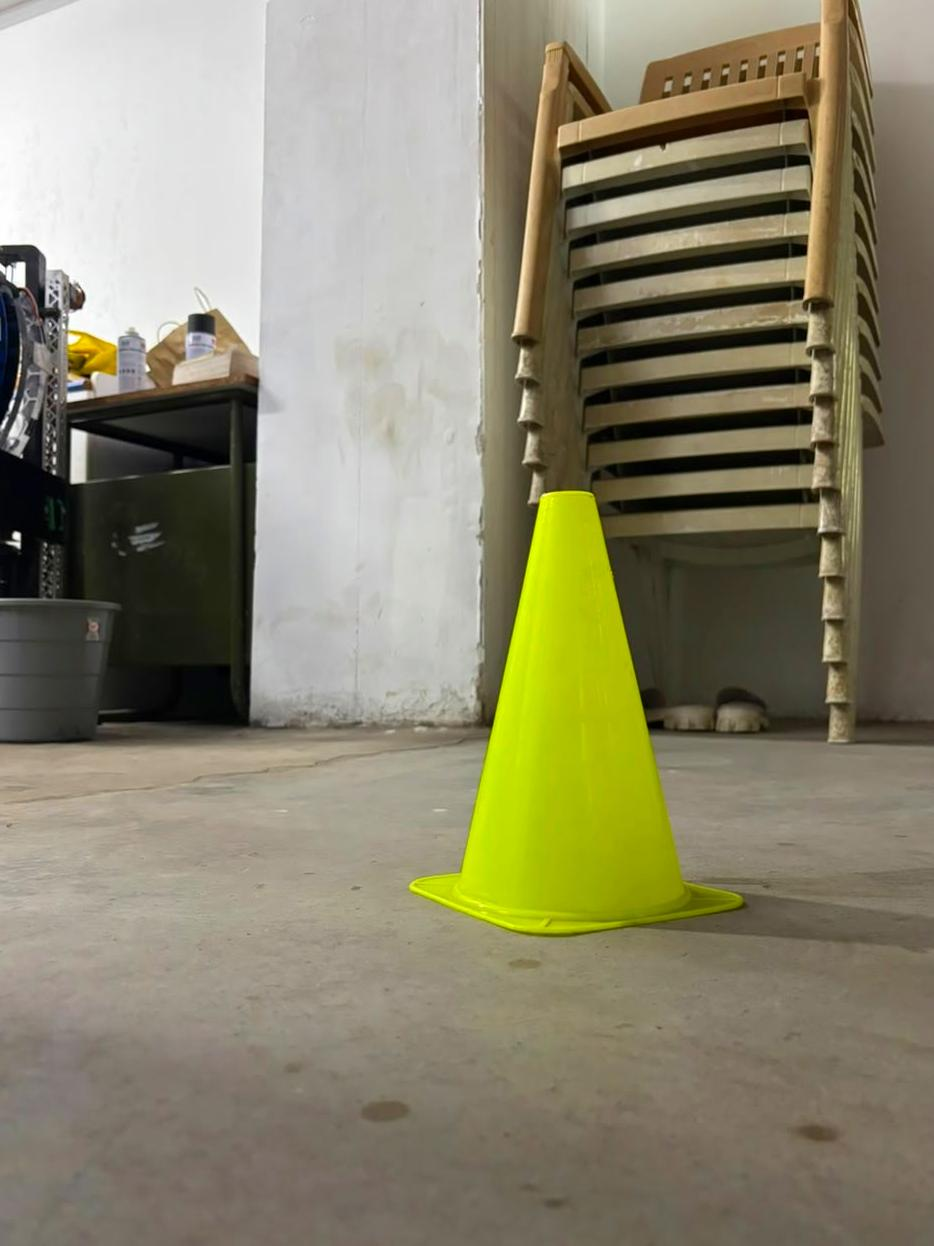0 cone: (410, 491, 743, 936)
